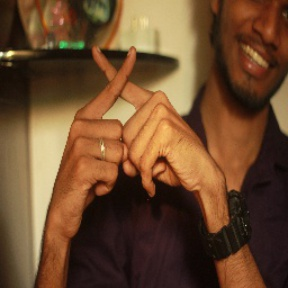X: (68, 37, 184, 156)
